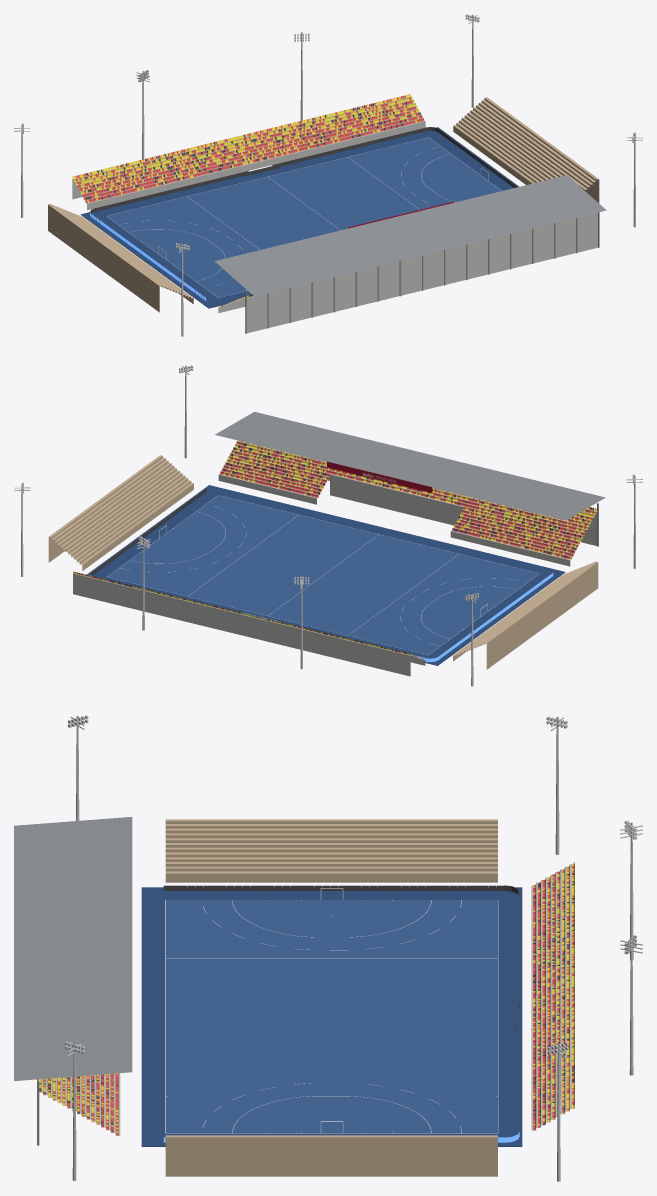
The model's file is Belfius_Hockey_Arena.glb.
3 views of the same model, one above another, from view 1: azimuth 30°, elevation 25°; view 2: azimuth 150°, elevation 25°; view 3: azimuth 270°, elevation 25° (orthographic). The views are drawn at different scales.
Visible parts, largest first — view 1: Tapis_aire_de_jeu, Tribune_principale_toiture, Tribune_sud, Tribune_fond_ouest, Tapis_degagement, Tribune_sud_sieges_rouge, Tribune_principale_C, Tribune_fond_est, Tribune_principale_E, Tribune_sud_sieges_jaune, Tribune_principale_O, Mats_eclairage (+2 smaller); view 2: Tapis_aire_de_jeu, Tribune_principale_toiture, Tribune_sud, Tapis_degagement, Tribune_fond_ouest, Tribune_fond_est, Tribune_principale_E, Tribune_principale_C, Tribune_principale_O, Tribune_principale_E_sieges_rouge, Tribune_principale_O_sieges_rouge, Mats_eclairage (+6 smaller); view 3: Tapis_aire_de_jeu, Tribune_principale_toiture, Tribune_fond_est, Tapis_degagement, Tribune_fond_ouest, Tribune_sud, Tribune_sud_sieges_rouge, Mats_eclairage, Tribune_sud_sieges_jaune, Tribune_principale_O, Marquage_FIH, Tribune_principale_O_sieges_rouge (+2 smaller).
Part boxes in pixels (box(x1,y1,x2,y2)): Tapis_aire_de_jeu: box(107, 137, 501, 297); Tribune_principale_toiture: box(214, 175, 606, 296); Tribune_sud: box(72, 96, 425, 210); Tribune_fond_ouest: box(453, 97, 599, 203); Tapis_degagement: box(80, 127, 519, 308); Tribune_sud_sieges_rouge: box(76, 95, 424, 203); Tribune_principale_C: box(366, 236, 499, 304); Tribune_fond_est: box(48, 204, 193, 312); Tribune_principale_E: box(218, 269, 365, 333); Tribune_sud_sieges_jaune: box(72, 94, 419, 202); Tribune_principale_O: box(500, 212, 597, 271); Mats_eclairage: box(14, 14, 642, 336); Tapis_aire_de_jeu: box(107, 495, 539, 654); Tribune_principale_toiture: box(215, 412, 605, 520); Tribune_sud: box(73, 573, 425, 676); Tapis_degagement: box(87, 485, 565, 665); Tribune_fond_ouest: box(48, 455, 193, 570); Tribune_fond_est: box(453, 561, 598, 669); Tribune_principale_E: box(450, 497, 596, 566); Tribune_principale_C: box(330, 469, 468, 525); Tribune_principale_O: box(218, 441, 333, 504); Tribune_principale_E_sieges_rouge: box(452, 498, 594, 558); Tribune_principale_O_sieges_rouge: box(220, 441, 332, 497); Mats_eclairage: box(14, 365, 642, 686); Tapis_aire_de_jeu: box(166, 900, 497, 1133); Tribune_principale_toiture: box(14, 817, 132, 1081); Tribune_fond_est: box(165, 819, 497, 882); Tapis_degagement: box(141, 887, 522, 1146); Tribune_fond_ouest: box(165, 1135, 497, 1176); Tribune_sud: box(531, 864, 574, 1130); Tribune_sud_sieges_rouge: box(533, 864, 574, 1130); Mats_eclairage: box(65, 715, 642, 1181); Tribune_sud_sieges_jaune: box(533, 861, 574, 1125); Tribune_principale_O: box(39, 1073, 120, 1135); Marquage_FIH: box(165, 900, 498, 1133); Tribune_principale_O_sieges_rouge: box(39, 1073, 118, 1135).
Size of what is drawn, in the model's own units: 132 by 25 by 104.
14 materials, 1 textured.
